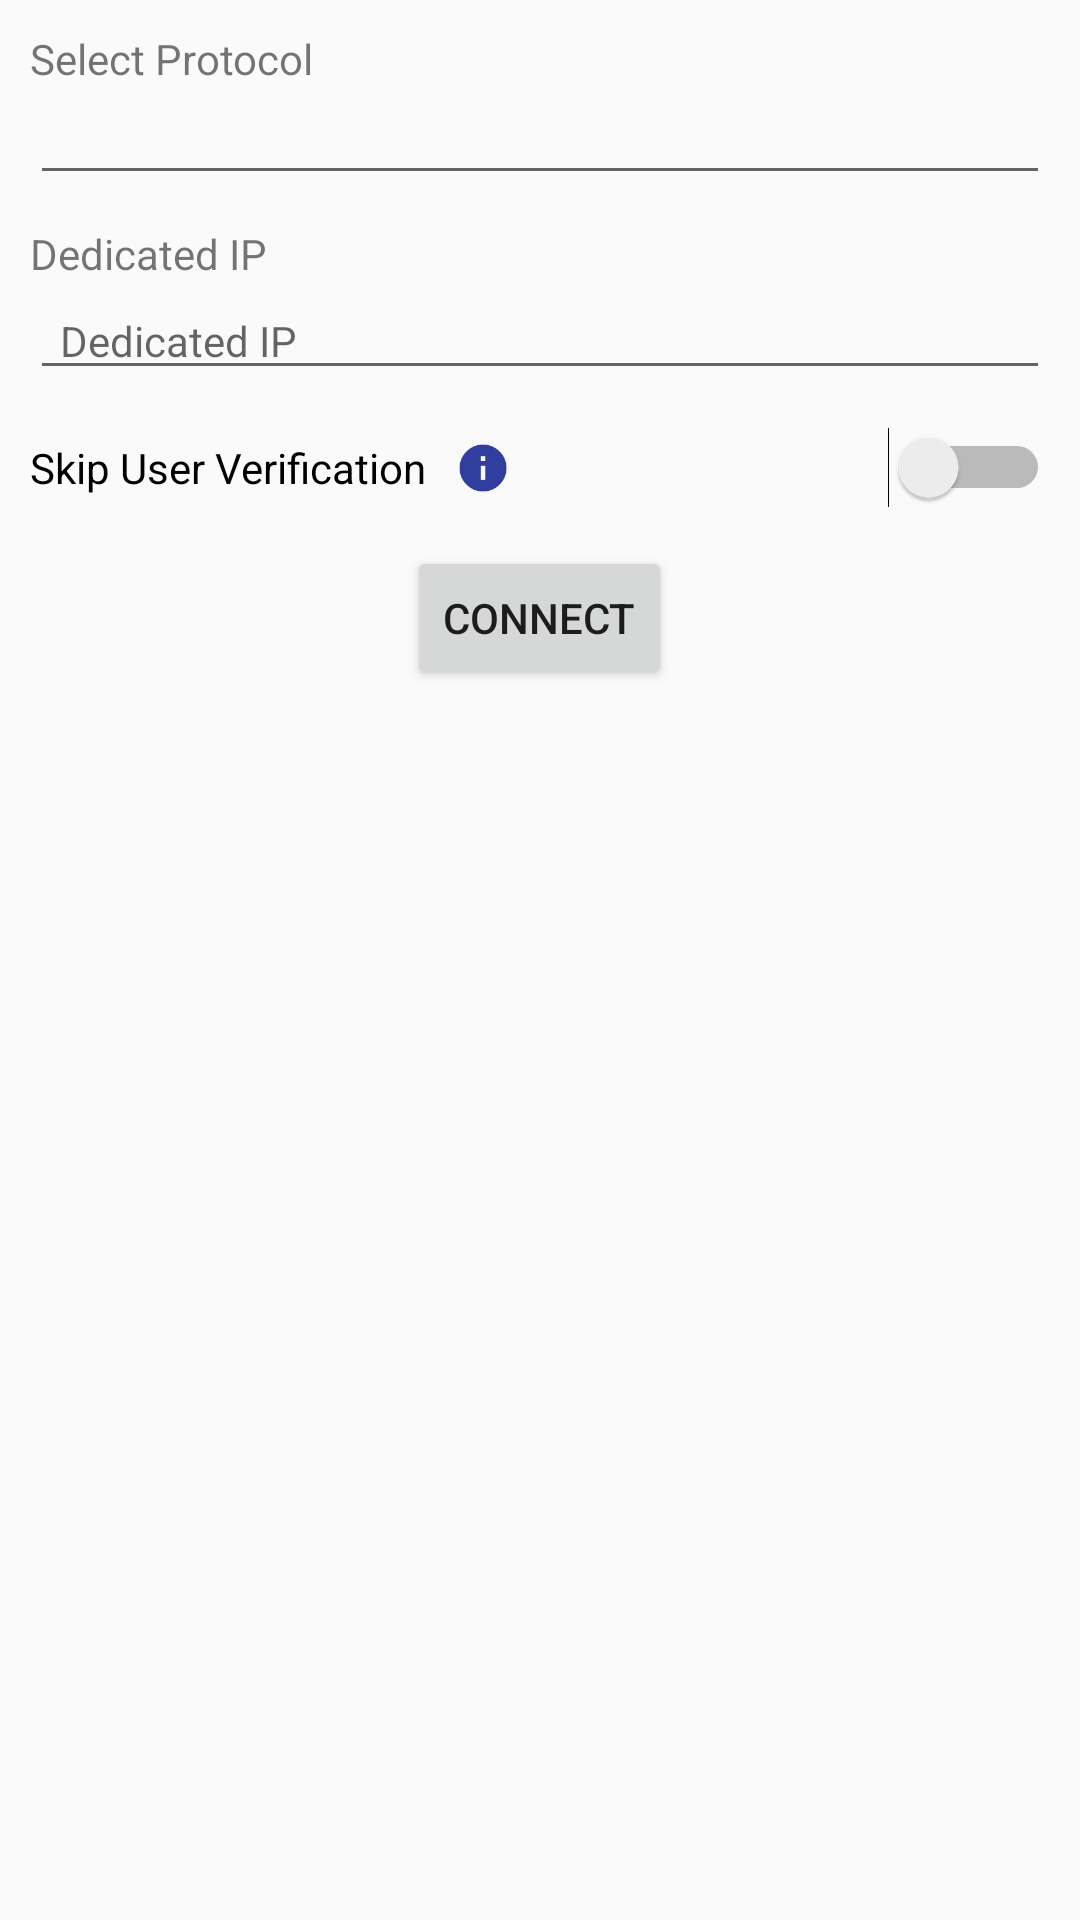

Named icons in this screenshot (1080x1920) and their bounding boxes, (x1, y1, x2, y2):
info: (459, 444, 507, 492)
